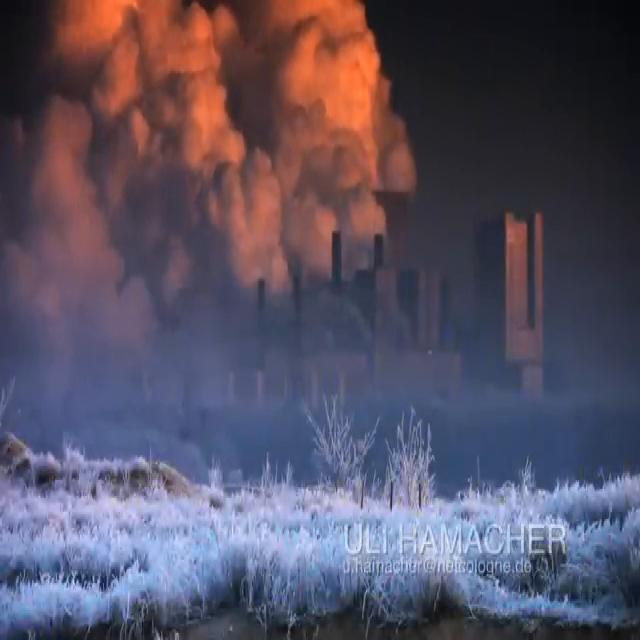smoke: (0, 0, 415, 347)
